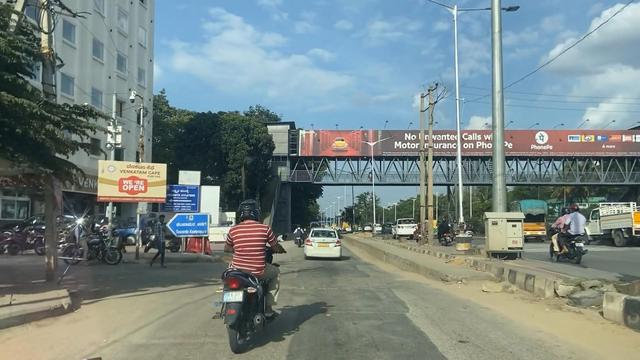LMV: (221, 205, 268, 353), (306, 227, 339, 261)
UnsurfacedRoad: (290, 273, 441, 322)
